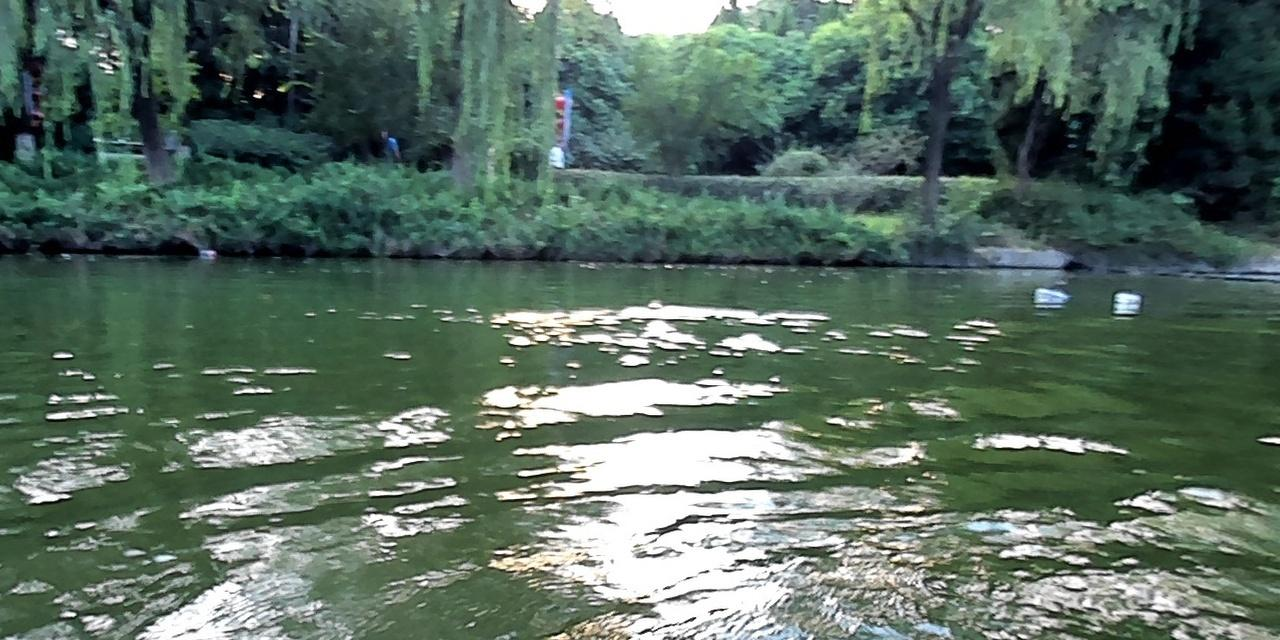bottle: (1034, 286, 1068, 304), (1111, 291, 1140, 308), (198, 248, 215, 260)
